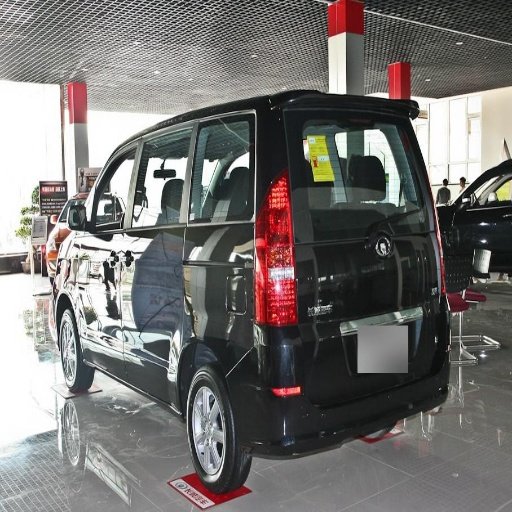back_bumper: (229, 342, 451, 454)
back_left_light: (254, 180, 298, 327)
tailgate: (294, 228, 315, 325)
trunk: (297, 184, 440, 400), (157, 227, 207, 297)
